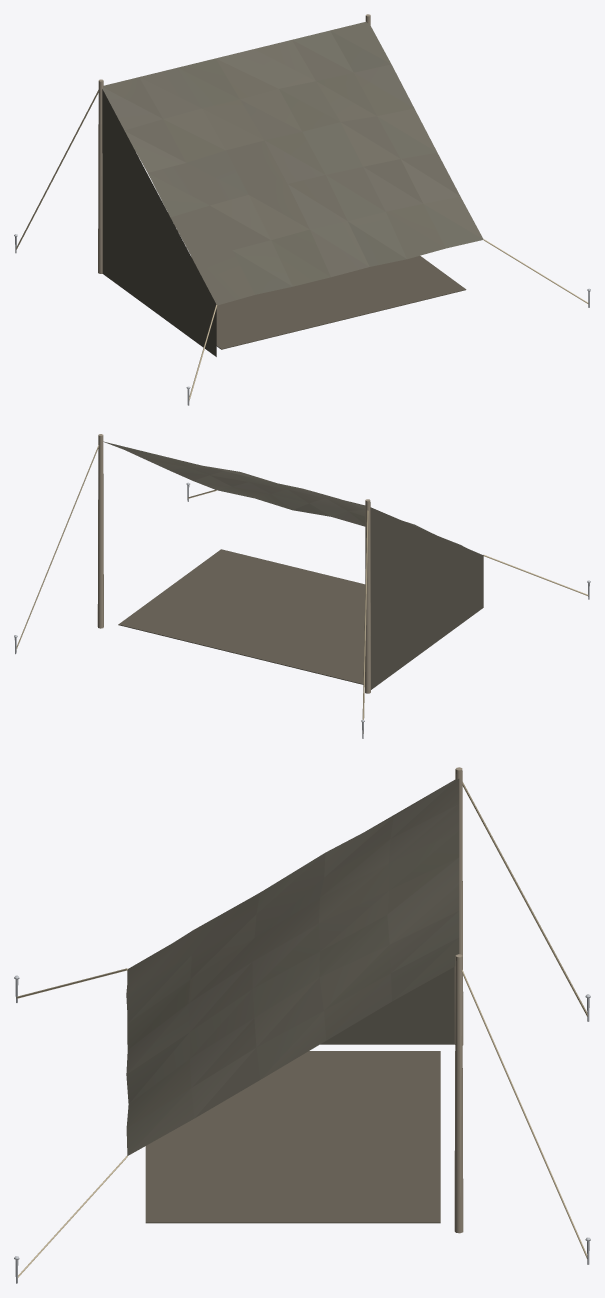
The model's file is camp_tent_b.glb.
3 renders of one model, top to bottom at view 1: azimuth 30°, elevation 25°; view 2: azimuth 150°, elevation 25°; view 3: azimuth 270°, elevation 25°, orthographic. The views are drawn at different scales.
Visible parts, largest first — view 1: body; view 2: body; view 3: body.
Part boxes in pixels (bbox=[...]): body: bbox=[14, 14, 590, 405]; body: bbox=[14, 434, 590, 738]; body: bbox=[14, 767, 590, 1283].
Size of what is drawn, in the model's own units: 3.63 by 1.68 by 3.13.
